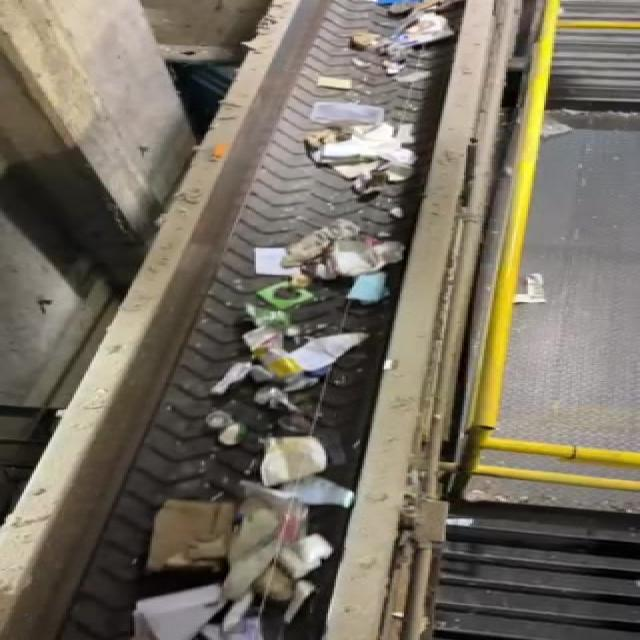paper: (152, 496, 243, 582)
